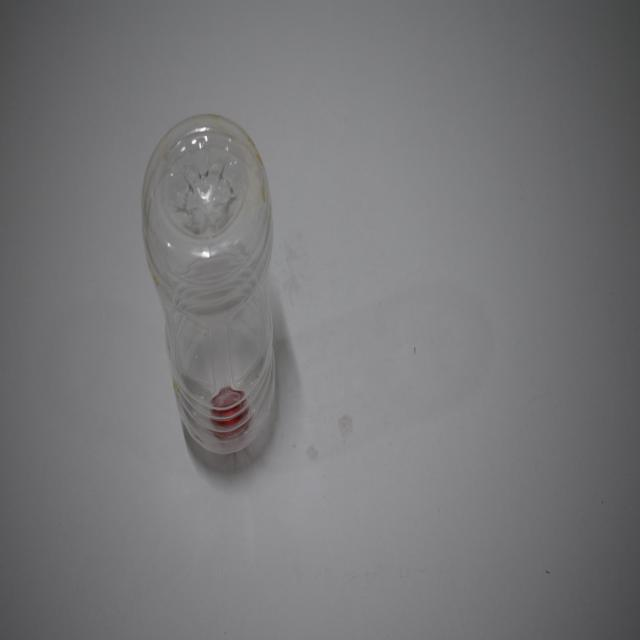empty: (142, 115, 274, 453)
